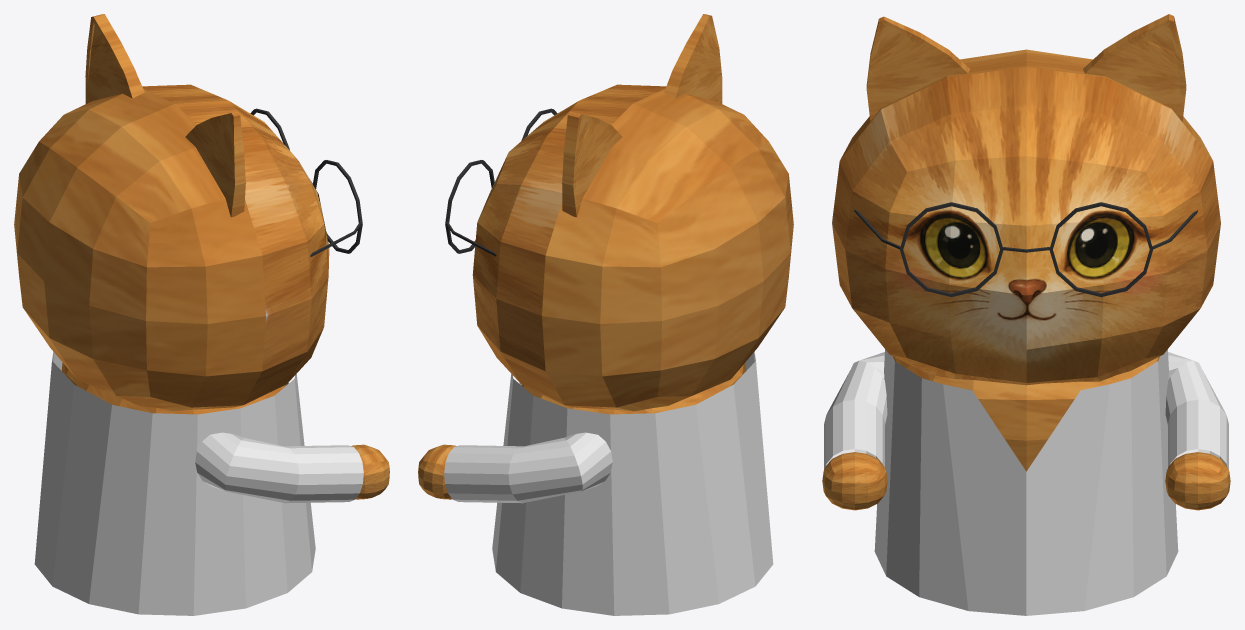
The model's file is 20260506_Dr_yokobo.glb.
The picture shows the model from 3 angles, left to right: view 1: azimuth 30°, elevation 25°; view 2: azimuth 150°, elevation 25°; view 3: azimuth 270°, elevation 25°; orthographic projection. The views are drawn at different scales.
Visible parts, largest first — view 1: Cube, 円柱, 円柱.001, 立方体.002, 立方体.001, Cube.001, Cube.002, 円柱.002; view 2: Cube, 円柱, 円柱.001, 立方体.002, Cube.002, Cube.001, 立方体.001, 円柱.002; view 3: Cube, 円柱, 円柱.001, 立方体.002, Cube.001, Cube.002, 立方体.001, 円柱.002.
Part boxes in pixels (x1,y1,x2,y2): Cube: [14, 84, 329, 411]; 円柱: [34, 352, 315, 615]; 円柱.001: [195, 432, 363, 503]; 立方体.002: [85, 14, 245, 217]; 立方体.001: [85, 15, 144, 101]; Cube.001: [61, 363, 286, 414]; Cube.002: [351, 444, 389, 499]; 円柱.002: [250, 108, 362, 253]; Cube: [472, 84, 793, 411]; 円柱: [492, 352, 773, 615]; 円柱.001: [444, 432, 612, 503]; 立方体.002: [562, 14, 722, 217]; Cube.002: [418, 444, 456, 499]; Cube.001: [521, 363, 746, 414]; 立方体.001: [562, 113, 613, 215]; 円柱.002: [445, 108, 557, 253]; Cube: [832, 49, 1220, 385]; 円柱: [874, 349, 1178, 615]; 円柱.001: [824, 352, 1228, 469]; 立方体.002: [866, 16, 1186, 121]; Cube.001: [893, 356, 1159, 471]; Cube.002: [822, 452, 1230, 510]; 立方体.001: [1083, 14, 1186, 121]; 円柱.002: [900, 202, 1152, 297].
Size of the model in its own units: 1.86 by 3.27 by 2.28.
Materials: 4 (2 with a texture image).
